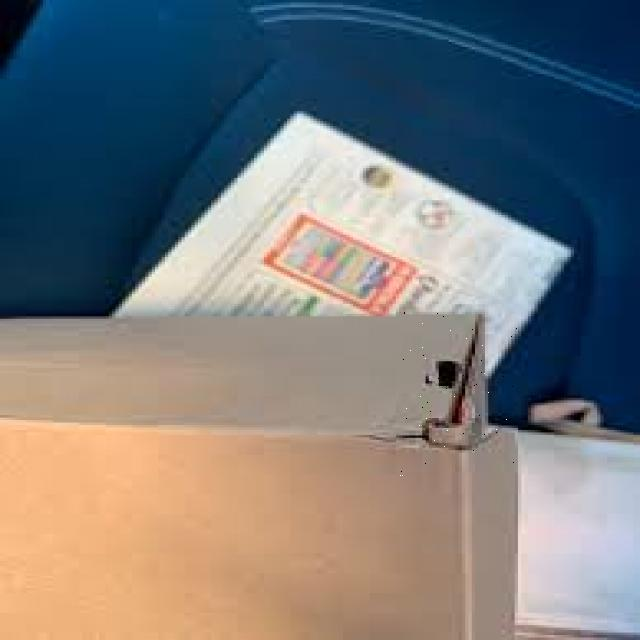tear: (396, 305, 518, 479)
